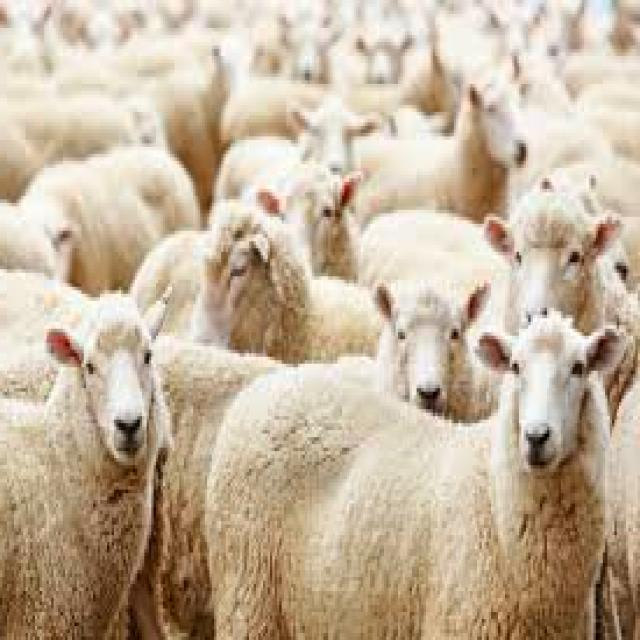sheep: (207, 311, 621, 637), (154, 283, 486, 637), (2, 290, 170, 637), (200, 189, 379, 360), (296, 171, 507, 287), (354, 80, 528, 220), (486, 171, 619, 329)
